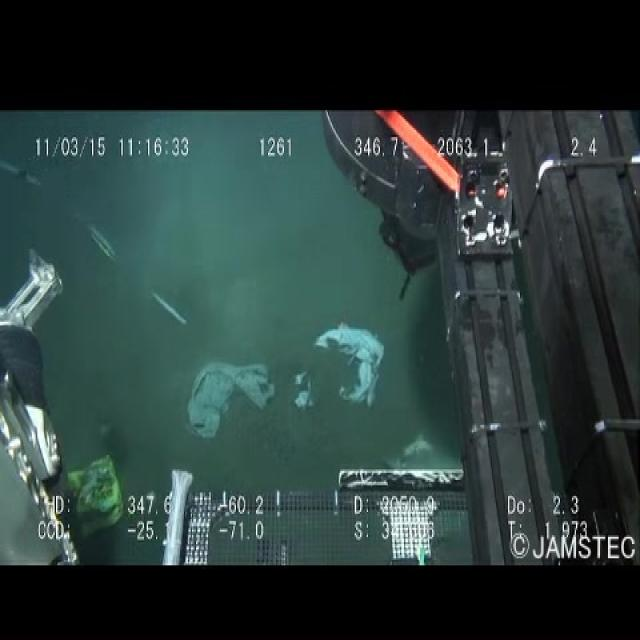plastic: (281, 313, 388, 430), (175, 348, 277, 454), (60, 446, 127, 535)
